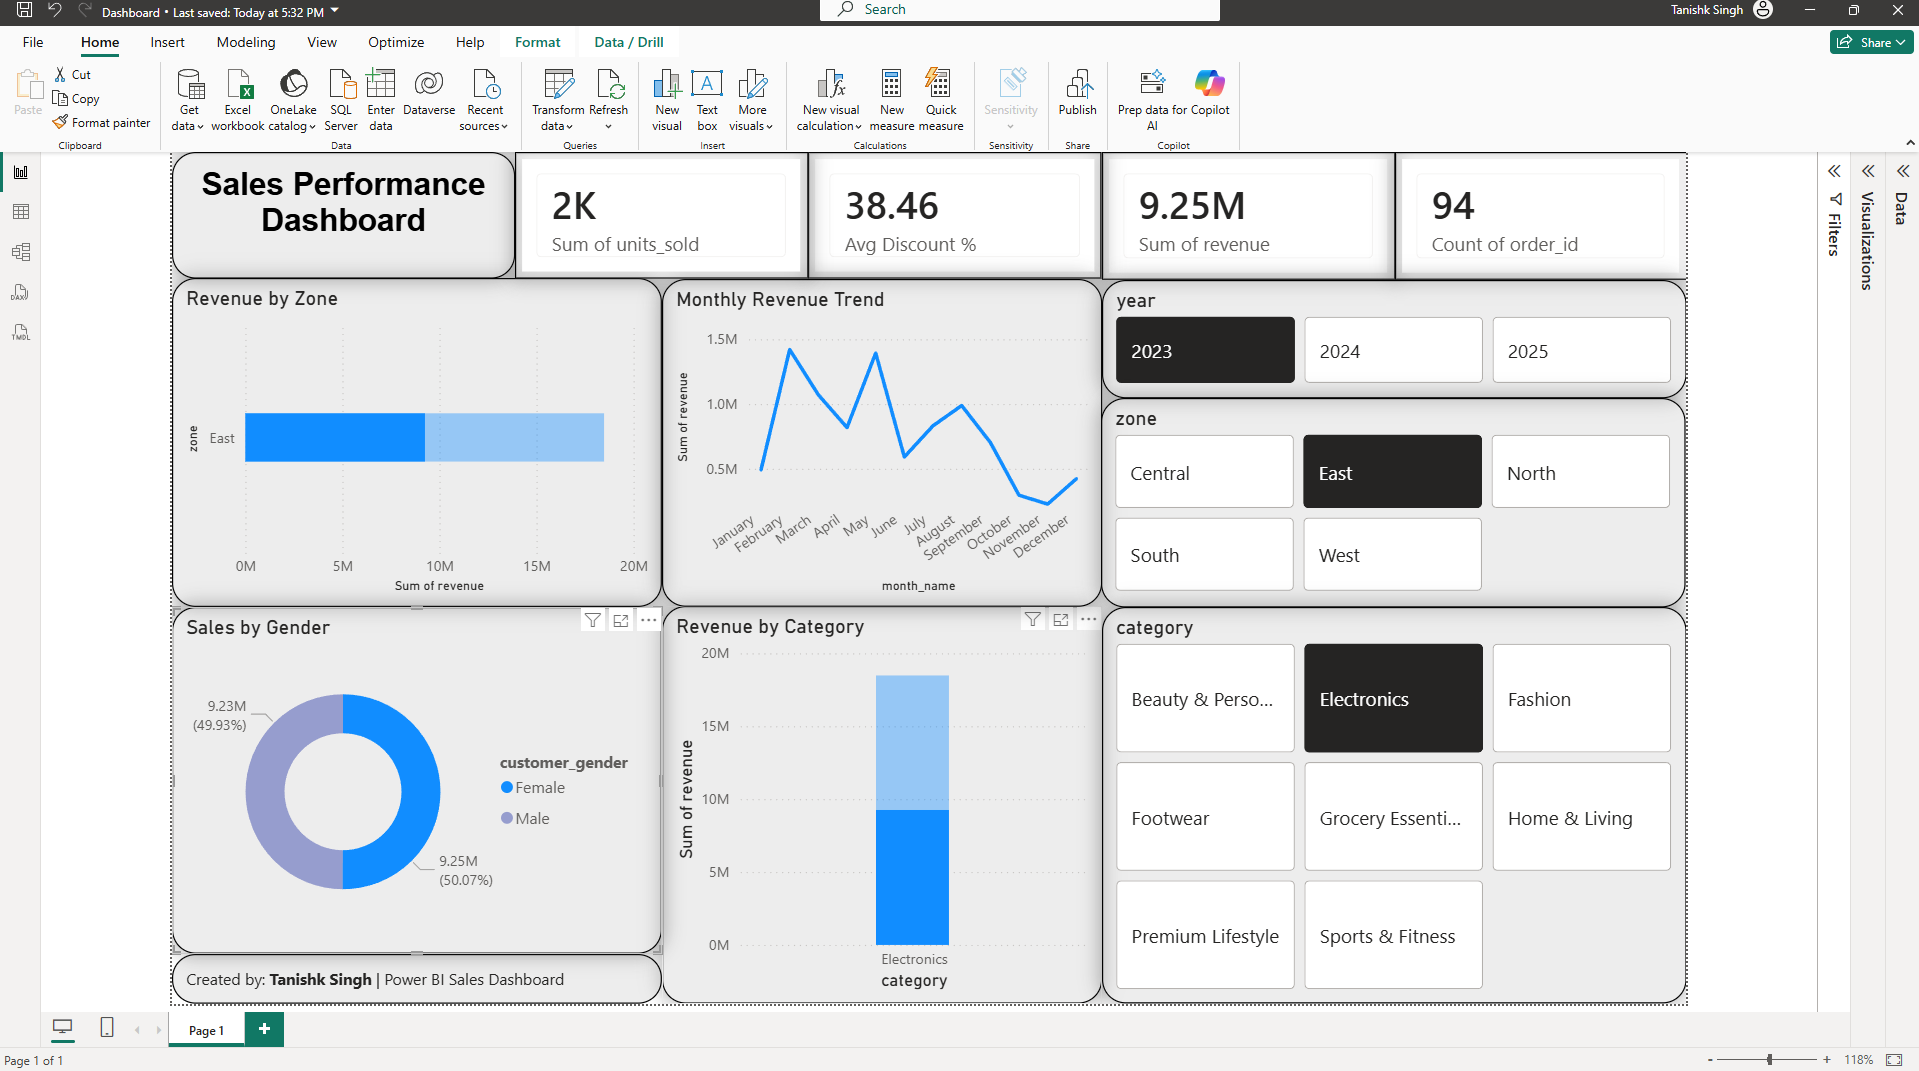

This screenshot's page, from the dashboard's own definition file:
{"tool":"powerbi","page":{"name":"Page 1","canvas":[1280,720],"ordinal":0},"visuals":[{"type":"cardVisual","fields":{"Data":["Sum(final_cleaned_dataset.revenue)"]},"box":[785.9,0,247.6,108.2],"z":0},{"type":"cardVisual","fields":{"Data":["Count(final_cleaned_dataset.order_id)"]},"box":[1033.5,0,246.8,108.2],"z":1000},{"type":"cardVisual","fields":{"Data":["Avg(final_cleaned_dataset.discount_percent)"]},"box":[537.5,0,248.5,107.3],"z":2000},{"type":"columnChart","title":"Revenue by Category","fields":{"Category":["final_cleaned_dataset.category"],"Y":["Sum(final_cleaned_dataset.revenue)"]},"box":[414,383.8,371.8,336.4],"z":3000},{"type":"barChart","title":"Revenue by Zone","fields":{"Category":["final_cleaned_dataset.zone"],"Y":["Sum(final_cleaned_dataset.revenue)"]},"box":[0,106.1,414,277.7],"z":4000},{"type":"lineChart","title":"Monthly Revenue Trend","fields":{"Category":["final_cleaned_dataset.month_name"],"Y":["Sum(final_cleaned_dataset.revenue)"]},"box":[414.1,107.3,371.8,277.2],"z":5000},{"type":"donutChart","title":"Sales by Gender","fields":{"Category":["final_cleaned_dataset.customer_gender"],"Y":["Sum(final_cleaned_dataset.total_sales)"]},"box":[0,384.7,414,293.3],"z":6000},{"type":"advancedSlicerVisual","fields":{"Values":["final_cleaned_dataset.year"]},"box":[785.9,108.2,494.4,99.7],"z":7000},{"type":"advancedSlicerVisual","fields":{"Values":["final_cleaned_dataset.zone"]},"box":[785.1,207.9,494.4,176.6],"z":8000},{"type":"advancedSlicerVisual","fields":{"Values":["final_cleaned_dataset.category"]},"box":[785.9,384.5,494.4,335.5],"z":9000},{"type":"textbox","box":[0,0,289.9,107.3],"z":10000},{"type":"cardVisual","fields":{"Data":["Sum(final_cleaned_dataset.units_sold)"]},"box":[289.9,0,247.6,107.3],"z":11000},{"type":"textbox","box":[0,678,414,42.3],"z":11001}]}

Visuals, with their boxes on the page's 1280x720 design canvas (x1, y1, x2, y2). These are canvas units, not pixel positions in the 1919x1071 screenshot, which may show the page scaled, cropped or inside an application window:
cardVisual - Sum(final_cleaned_dataset.revenue): select_region(786, 0, 1034, 108)
cardVisual - Count(final_cleaned_dataset.order_id): select_region(1034, 0, 1280, 108)
cardVisual - Avg(final_cleaned_dataset.discount_percent): select_region(538, 0, 786, 107)
"Revenue by Category" columnChart: select_region(414, 384, 786, 720)
"Revenue by Zone" barChart: select_region(0, 106, 414, 384)
"Monthly Revenue Trend" lineChart: select_region(414, 107, 786, 384)
"Sales by Gender" donutChart: select_region(0, 385, 414, 678)
advancedSlicerVisual - final_cleaned_dataset.year: select_region(786, 108, 1280, 208)
advancedSlicerVisual - final_cleaned_dataset.zone: select_region(785, 208, 1280, 384)
advancedSlicerVisual - final_cleaned_dataset.category: select_region(786, 384, 1280, 720)
textbox: select_region(0, 0, 290, 107)
cardVisual - Sum(final_cleaned_dataset.units_sold): select_region(290, 0, 538, 107)
textbox: select_region(0, 678, 414, 720)
